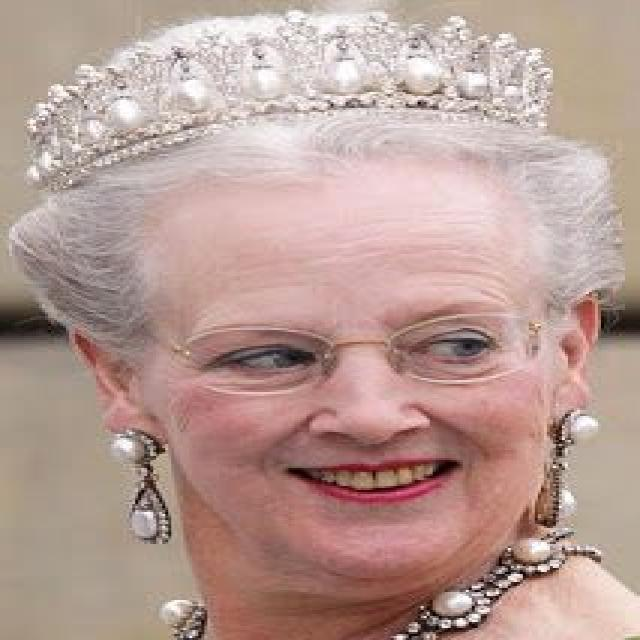Earring: (532, 404, 609, 536), (107, 422, 180, 554)
